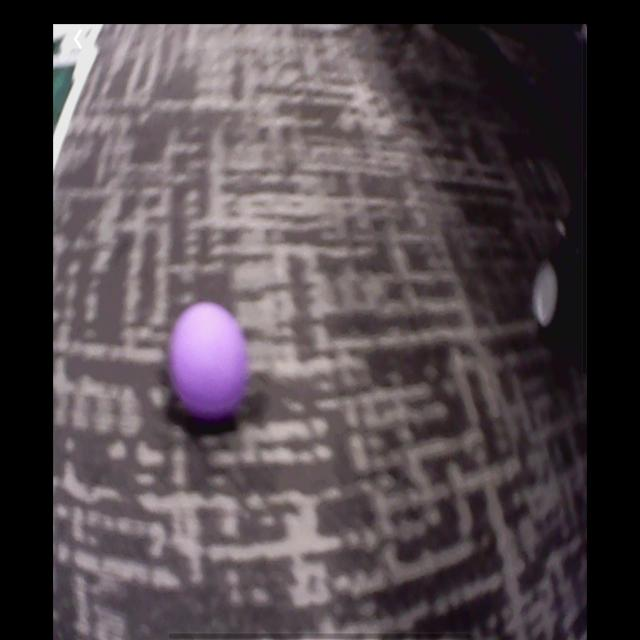ball: (172, 304, 245, 418)
